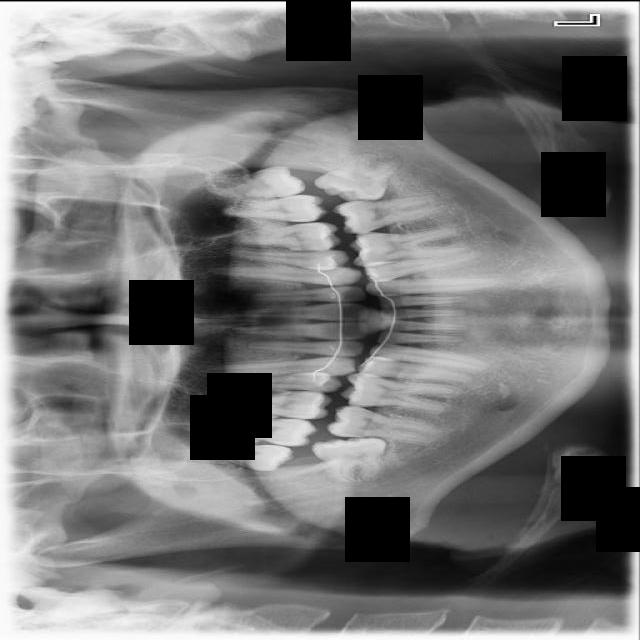3M ESPE Implant: (181, 439, 294, 472)
73: (572, 24, 582, 30)
BioHorizons Implant: (224, 190, 330, 223)
BioLife Implant: (198, 163, 307, 202)
Biomet 3i Implant: (313, 134, 414, 223)
Blue Sky Bio Implant: (331, 191, 454, 236)
Caries: (202, 417, 317, 446)
Implant: (326, 403, 446, 445)
Keystone Dental Implant: (310, 431, 391, 487)
